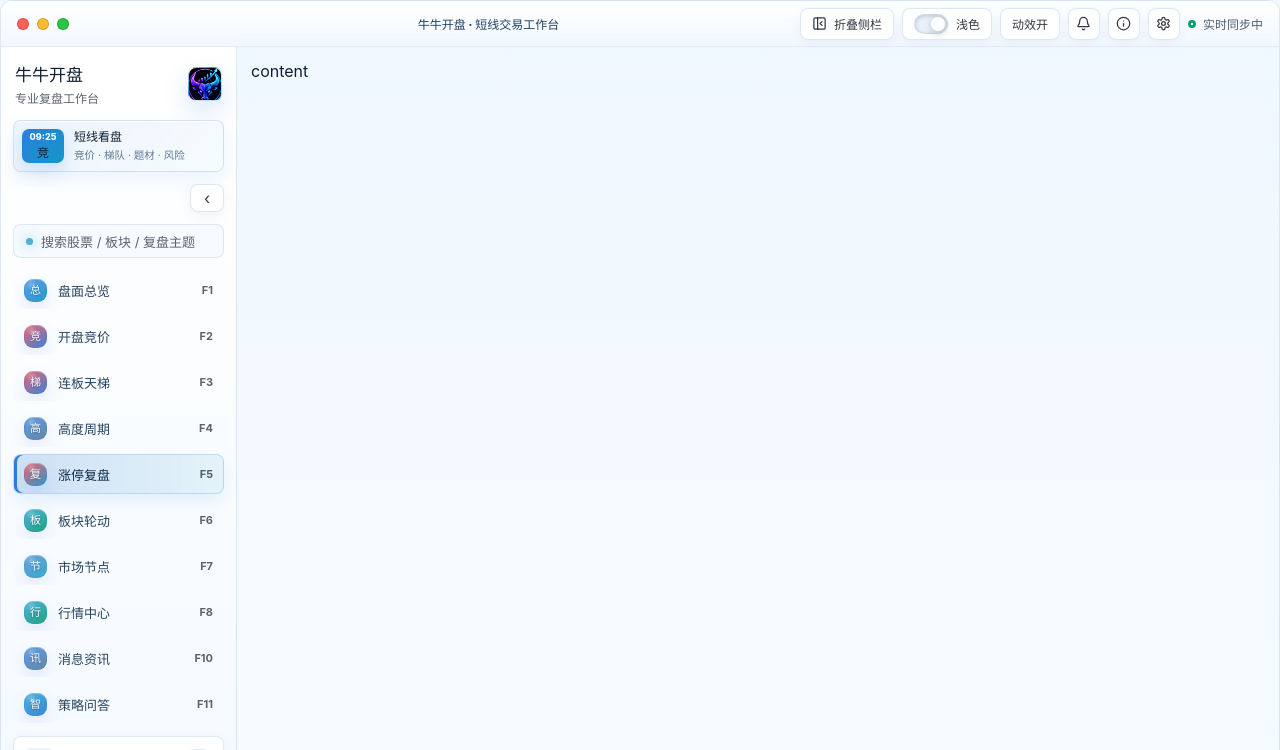
AppShell › collapses the left sidebar to compact navigation marks
Expected: the text "涨停复盘" is shown, [58,466,110,482]
Click the button named "折叠侧边栏". click: (207, 198)
box: [190,184,224,212]
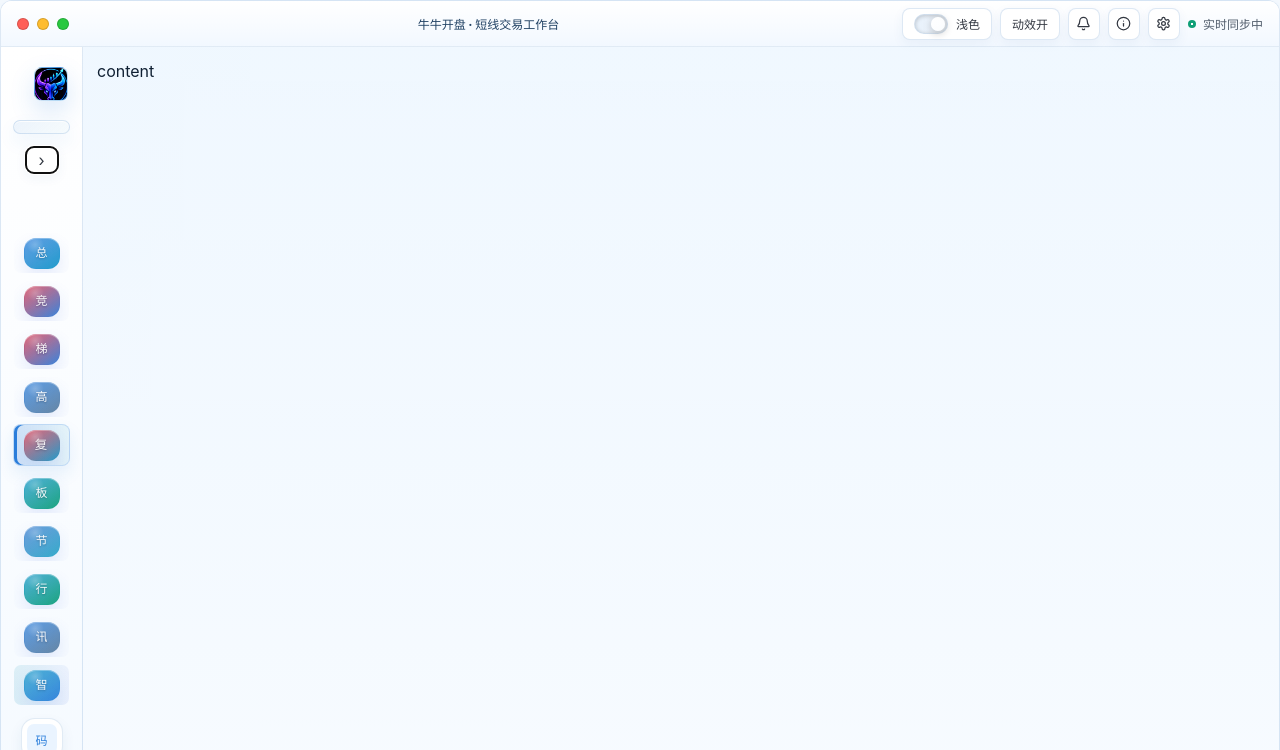
Expected: the link named "复 涨停复盘" is shown, [13,424,70,466]
Expected: the text "涨停复盘" is gone
